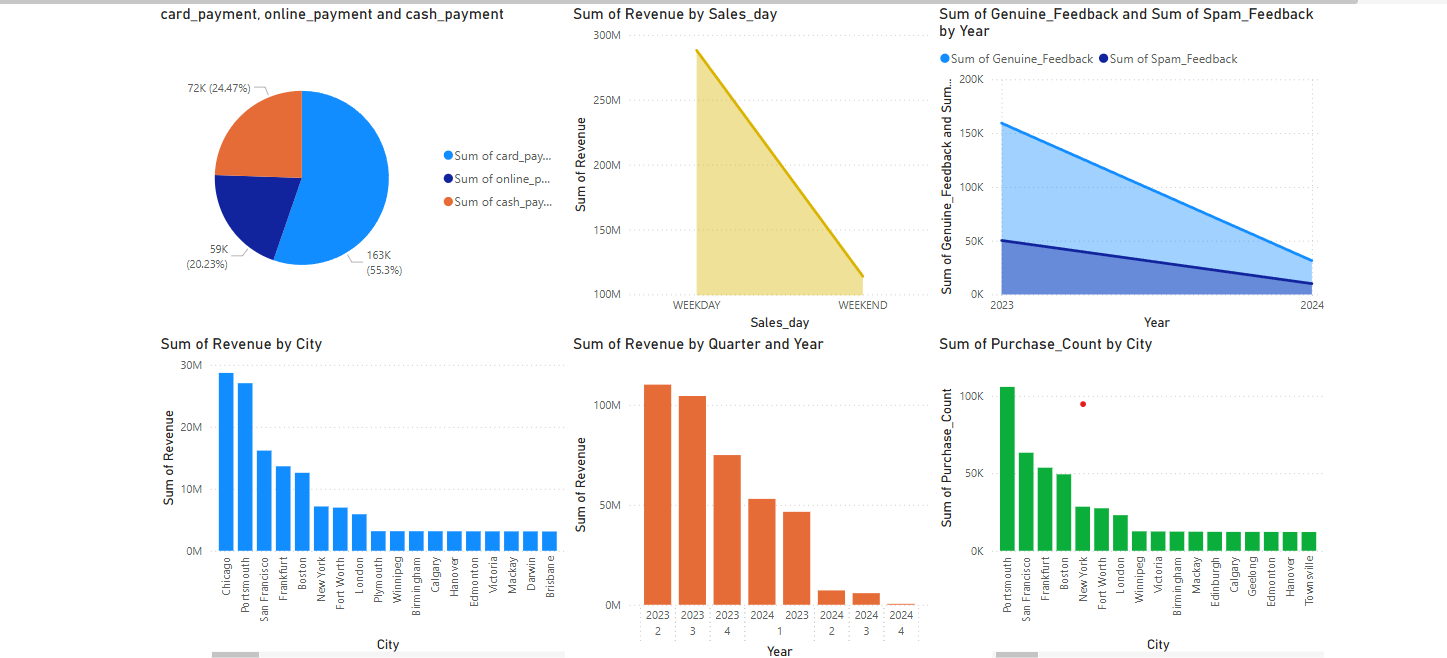

Layout of this report page (visuals, bound fields, positions):
{"tool":"powerbi","page":{"name":"Page 1","canvas":[1280,720],"ordinal":0},"visuals":[{"type":"columnChart","fields":{"Category":["gold retail_table.City"],"Y":["Sum(gold retail_table.Revenue)"]},"box":[0,360.9,451.5,359.5],"z":0},{"type":"columnChart","fields":{"Category":["gold retail_table.Quarter","gold retail_table.Year"],"Y":["Sum(gold retail_table.Revenue)"]},"box":[451.2,360.7,398.6,359.5],"z":1},{"type":"columnChart","fields":{"Category":["gold retail_table.City"],"Y":["Sum(gold retail_table.Purchase_Count)"]},"box":[849.9,360.7,430.4,359.5],"z":2},{"type":"pieChart","title":"card_payment, online_payment and cash_payment","fields":{"Y":["Sum(gold retail_table.card_payment)","Sum(gold retail_table.online_payment)","Sum(gold retail_table.cash_payment)"]},"box":[0,0,451,360],"z":3},{"type":"stackedAreaChart","fields":{"Category":["gold retail_table.Sales_day"],"Y":["Sum(gold retail_table.Revenue)"]},"box":[451,0,399,360],"z":4},{"type":"areaChart","fields":{"Category":["gold retail_table.Year"],"Y":["Sum(gold retail_table.Genuine_Feedback)","Sum(gold retail_table.Spam_Feedback)"]},"box":[850,0,430,360],"z":5}]}

Visuals, with their boxes on the page's 1280x720 design canvas (x1, y1, x2, y2). These are canvas units, not pixel positions in the 1447x658 screenshot, which may show the page scaled, cropped or inside an application window:
columnChart - gold retail_table.City x Sum(gold retail_table.Revenue): (0, 361, 452, 720)
columnChart - gold retail_table.Quarter x gold retail_table.Year: (451, 361, 850, 720)
columnChart - gold retail_table.City x Sum(gold retail_table.Purchase_Count): (850, 361, 1280, 720)
"card_payment, online_payment and cash_payment" pieChart: (0, 0, 451, 360)
stackedAreaChart - gold retail_table.Sales_day x Sum(gold retail_table.Revenue): (451, 0, 850, 360)
areaChart - gold retail_table.Year x Sum(gold retail_table.Genuine_Feedback): (850, 0, 1280, 360)
